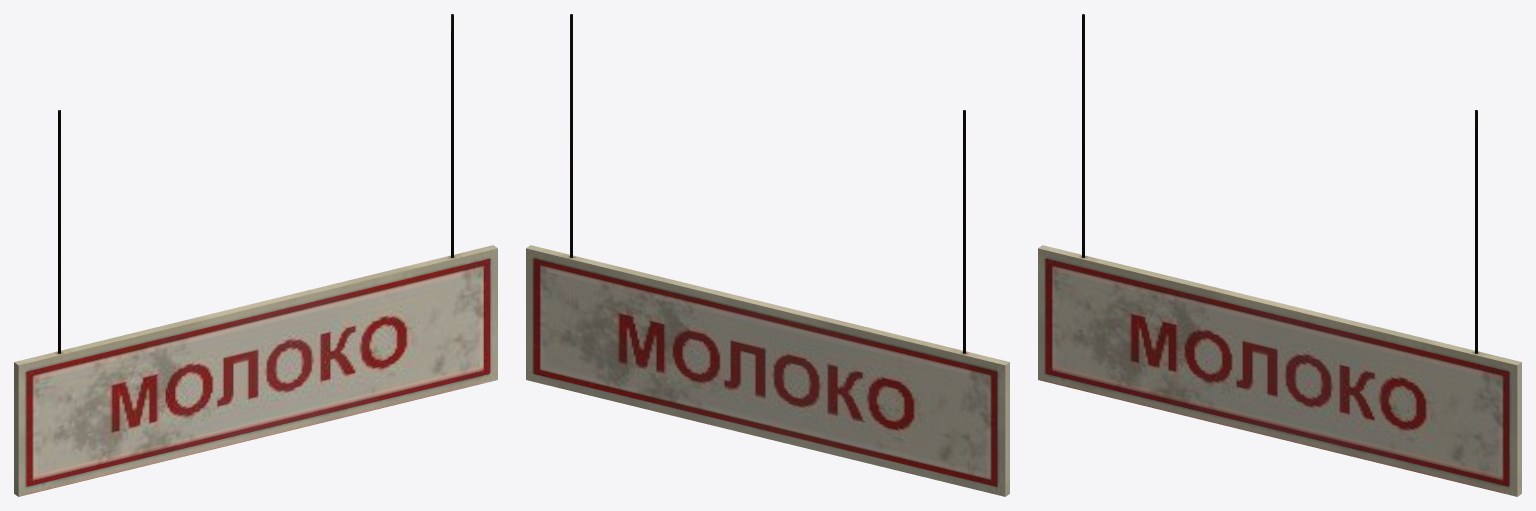
Rendered from sign_moloko_lod1_web.glb.
3 views of the same model, side by side, from view 1: azimuth 30°, elevation 25°; view 2: azimuth 150°, elevation 25°; view 3: azimuth 330°, elevation 25° (orthographic).
Visible parts, largest first — view 1: SignMoloko_Body; view 2: SignMoloko_Body; view 3: SignMoloko_Body.
Part boxes in pixels (box(x1,y1,x2,y2)): SignMoloko_Body: box(14, 14, 497, 496); SignMoloko_Body: box(526, 14, 1009, 496); SignMoloko_Body: box(1038, 14, 1521, 496).
Bounding box in the file's own units: 1.22 × 0.91 × 0.021.
1 material, 1 textured.
